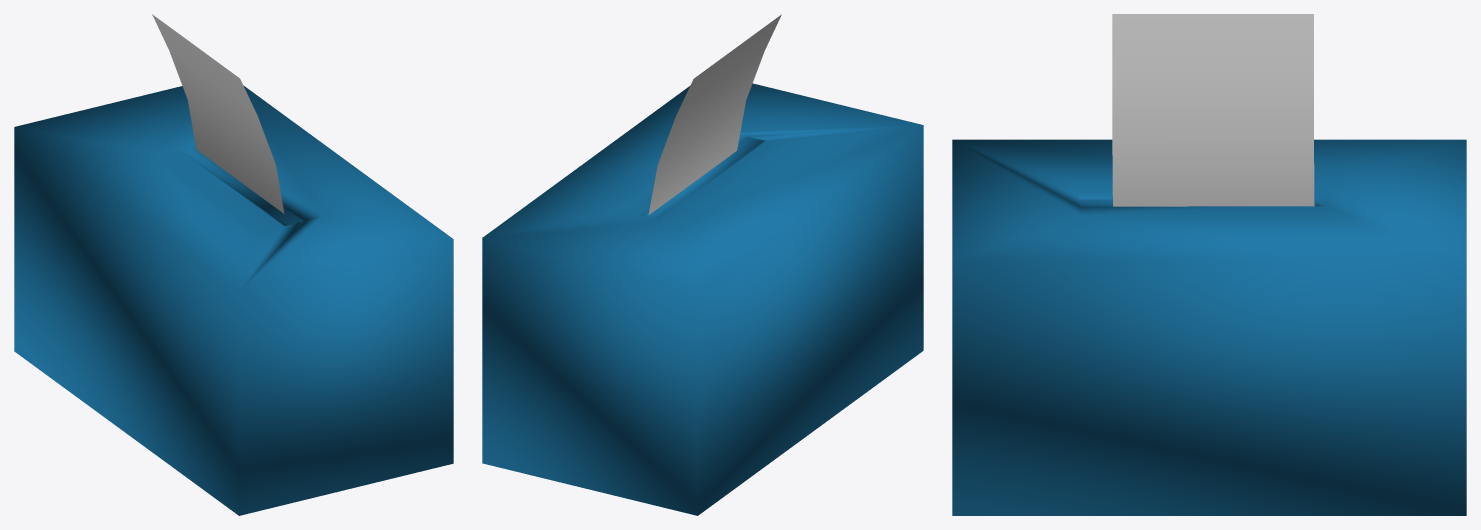
The model's file is Tissue_box.fbx.
The picture shows the model from 3 angles, left to right: view 1: azimuth 30°, elevation 25°; view 2: azimuth 150°, elevation 25°; view 3: azimuth 270°, elevation 25°; orthographic projection. The views are drawn at different scales.
Visible parts, largest first — view 1: Cube.043; view 2: Cube.043; view 3: Cube.043.
Part boxes in pixels (box(x1,y1,x2,y2)): Cube.043: box(14, 14, 453, 515); Cube.043: box(482, 14, 923, 515); Cube.043: box(952, 14, 1466, 515).
Bounding box in the file's own units: 32.83 × 53.96 × 59.6.
